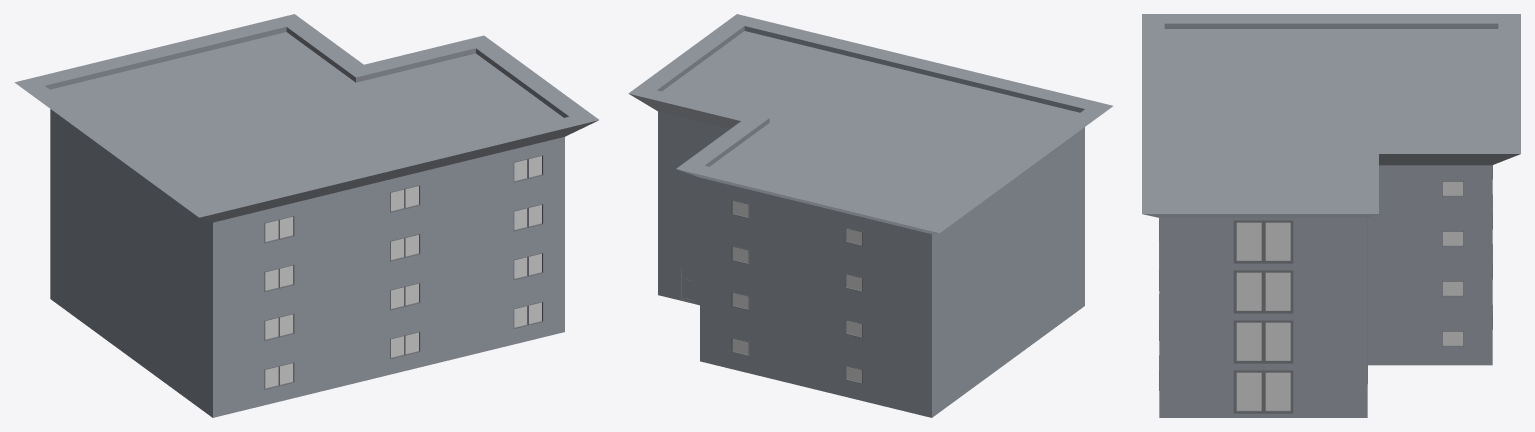
The model's file is House_31.fbx.
3 renders of one model, left to right at view 1: azimuth 30°, elevation 25°; view 2: azimuth 150°, elevation 25°; view 3: azimuth 270°, elevation 25°, orthographic. The views are drawn at different scales.
Visible parts, largest first — view 1: House_31_Body; view 2: House_31_Body; view 3: House_31_Body.
Boxes of the visible parts, x1=… form: House_31_Body: x1=14, y1=14, x2=598, y2=417; House_31_Body: x1=628, y1=14, x2=1112, y2=417; House_31_Body: x1=1142, y1=14, x2=1520, y2=417.
Size of the model in its own units: 2273 by 1149 by 1818.
